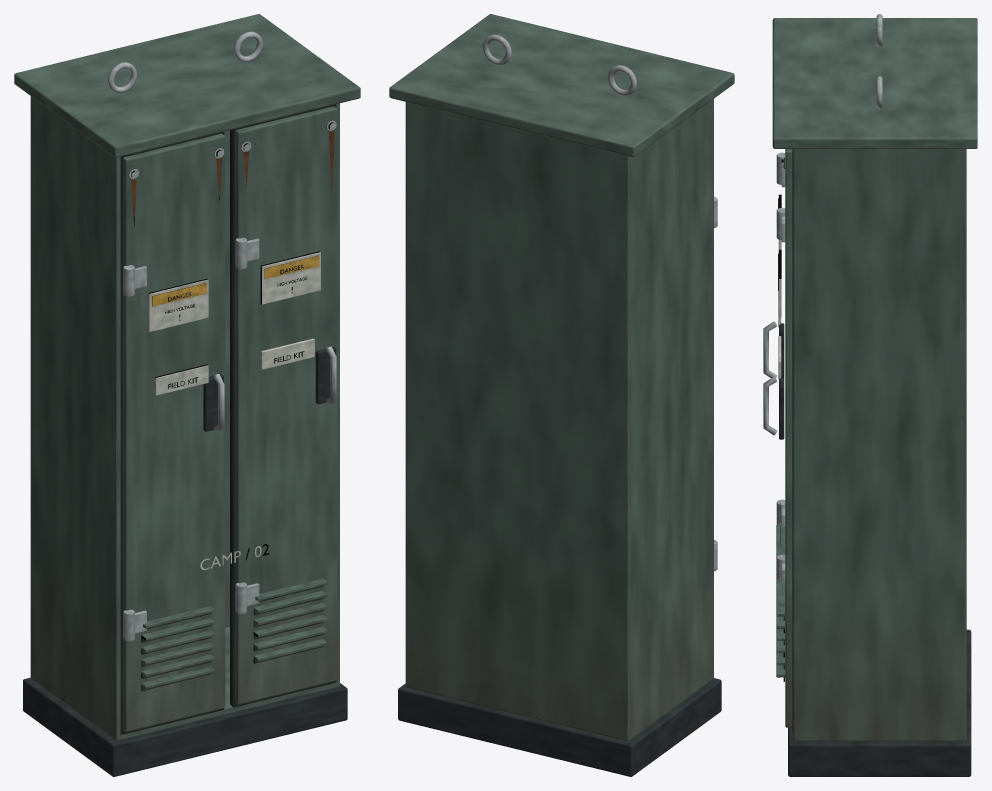
Rendered from GR_SupplyLocker_02.glb.
The picture shows the model from 3 angles, left to right: view 1: azimuth 30°, elevation 25°; view 2: azimuth 150°, elevation 25°; view 3: azimuth 270°, elevation 25°; orthographic projection.
Parts seen in each view (by area): view 1: Static; view 2: Static; view 3: Static.
Part boxes in pixels (bbox=[...]): Static: bbox=[14, 14, 360, 776]; Static: bbox=[389, 14, 734, 776]; Static: bbox=[763, 14, 977, 776].
Size of the model in its own units: 0.79 by 2.05 by 0.5915.
1 material, 1 textured.
